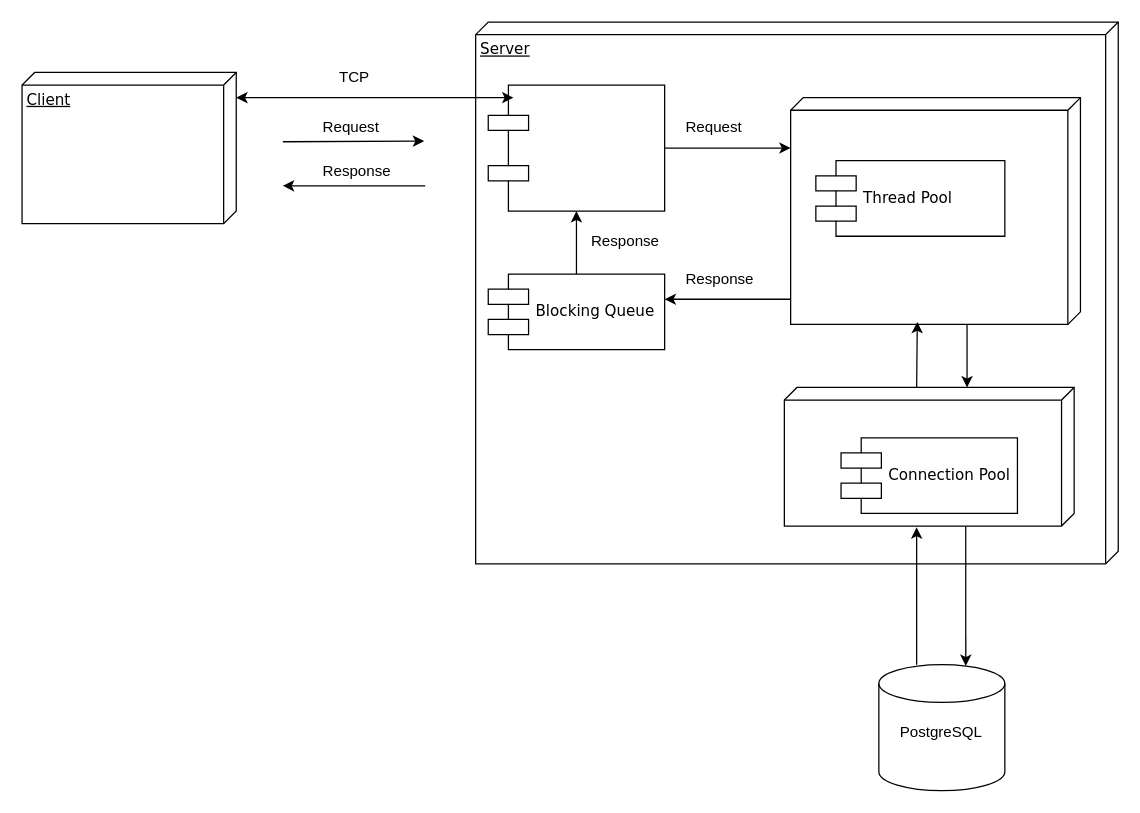
This 1140x813 diagram has some shape labels left out. The shapes that lost their labels are listed below. From the top down, each one's box as (x1, y1, x2, y2) in pixels, then its label:
(487, 84, 665, 211): Async Non Blocking IO
(789, 96, 1080, 324): Request Processor
(783, 386, 1074, 526): Database Connector
